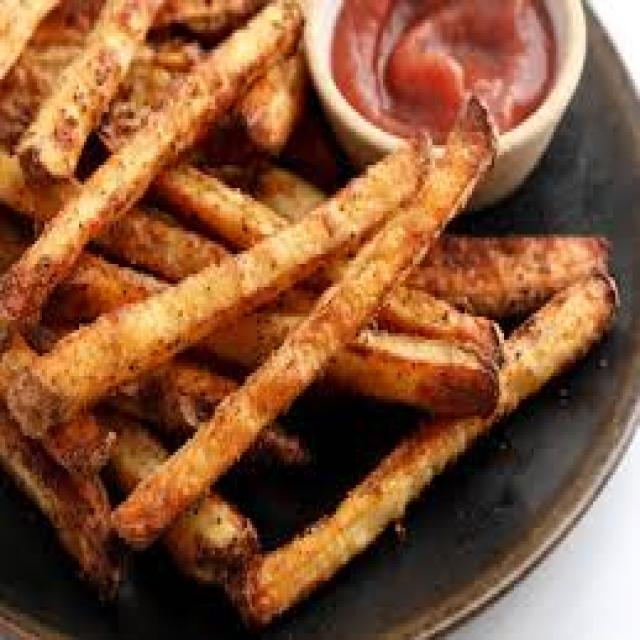감자튀김: (0, 0, 588, 630), (7, 0, 304, 241)
